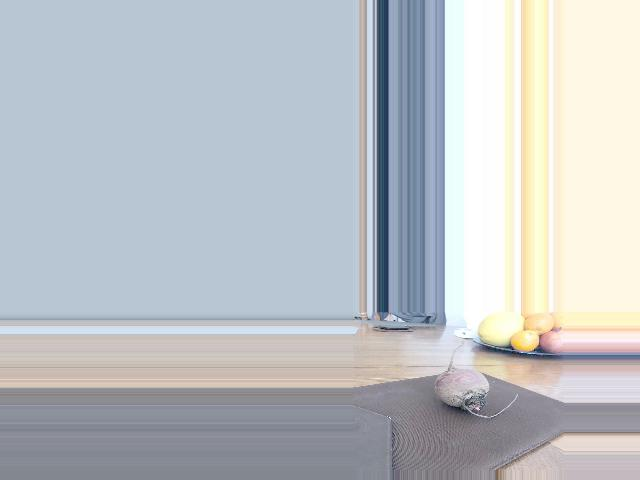beet: (434, 344, 517, 418)
